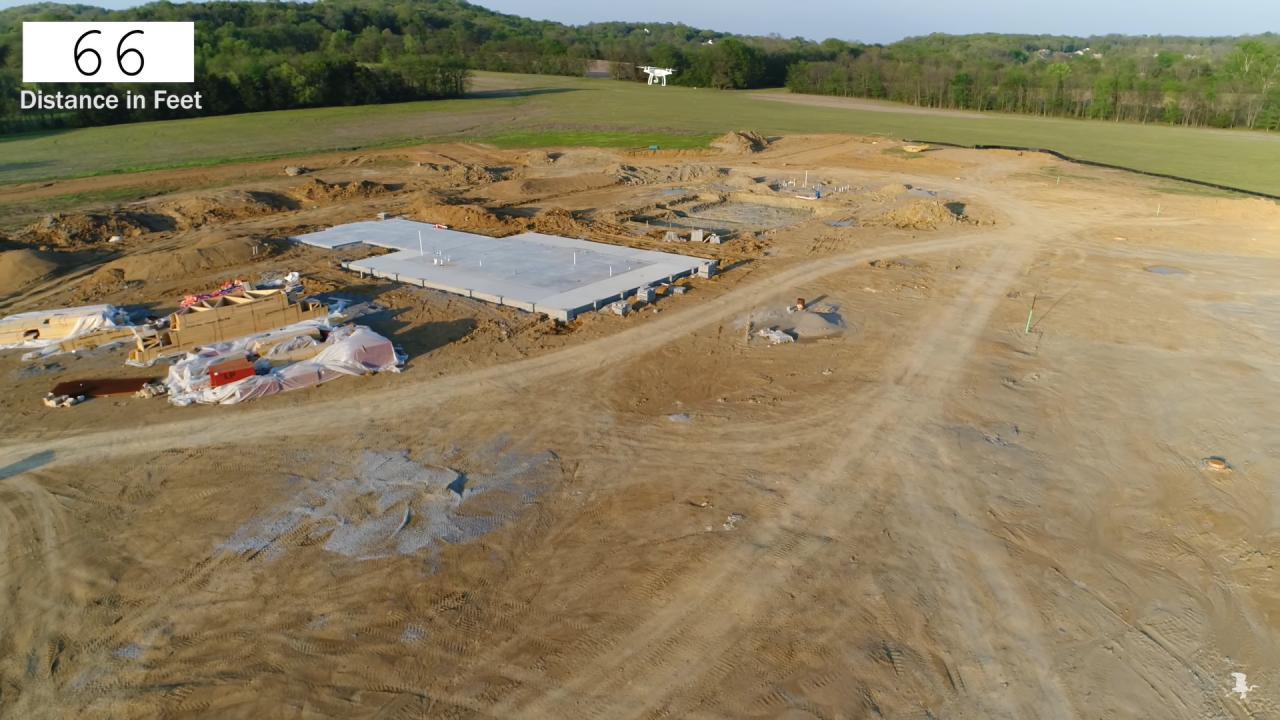Drone: (627, 54, 685, 96)
